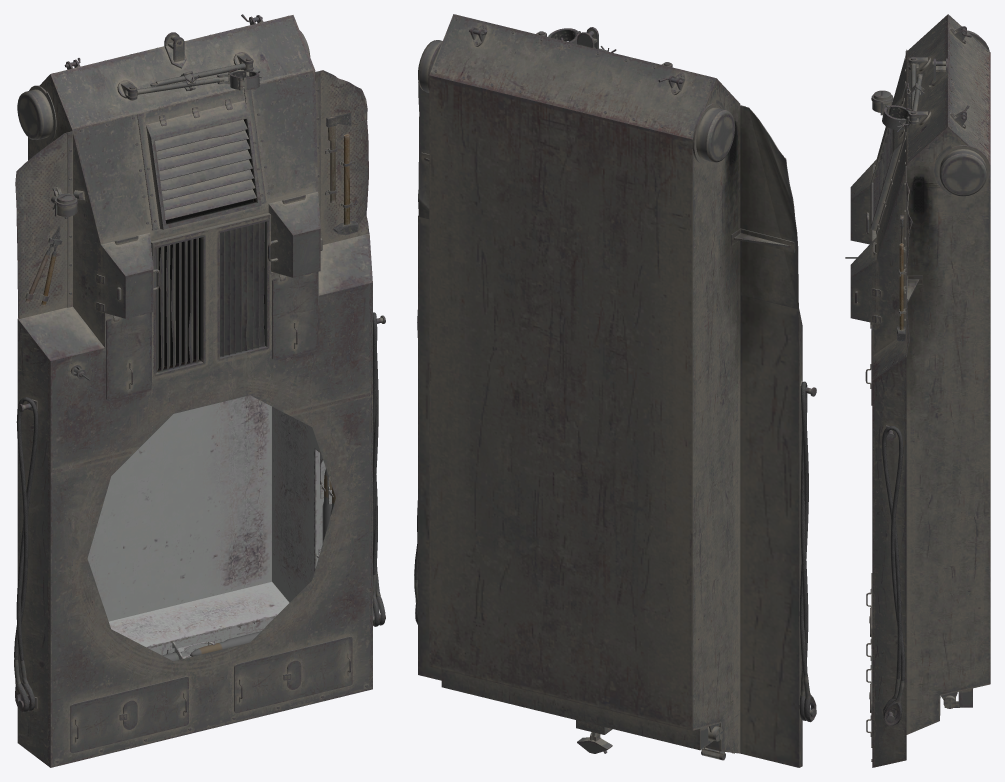
The model's file is Hull.glb.
The picture shows the model from 3 angles, left to right: view 1: azimuth 30°, elevation 25°; view 2: azimuth 150°, elevation 25°; view 3: azimuth 270°, elevation 25°; orthographic projection. The views are drawn at different scales.
Visible parts, largest first — view 1: set_0_group_0; view 2: set_0_group_0; view 3: set_0_group_0.
Part boxes in pixels (left/top/right/bottom): set_0_group_0: left=14, top=14, right=385, bottom=767; set_0_group_0: left=414, top=14, right=816, bottom=767; set_0_group_0: left=845, top=14, right=990, bottom=767.
Bounding box in the file's own units: 3.13 × 5.54 × 1.13.
Materials: 1 (1 with a texture image).
